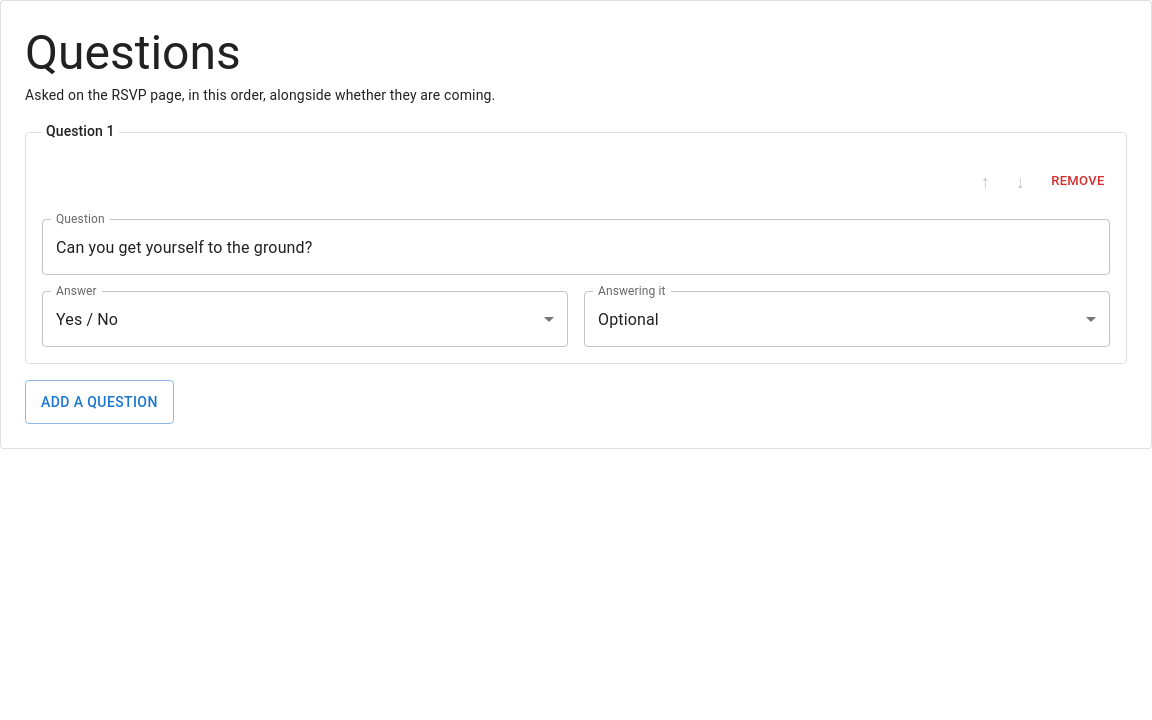
the three answer types (D66) › asks for the options as soon as the type becomes a list
Press the mouse on the dropdown named "Answer": [87, 319] box [56,310,118,328]
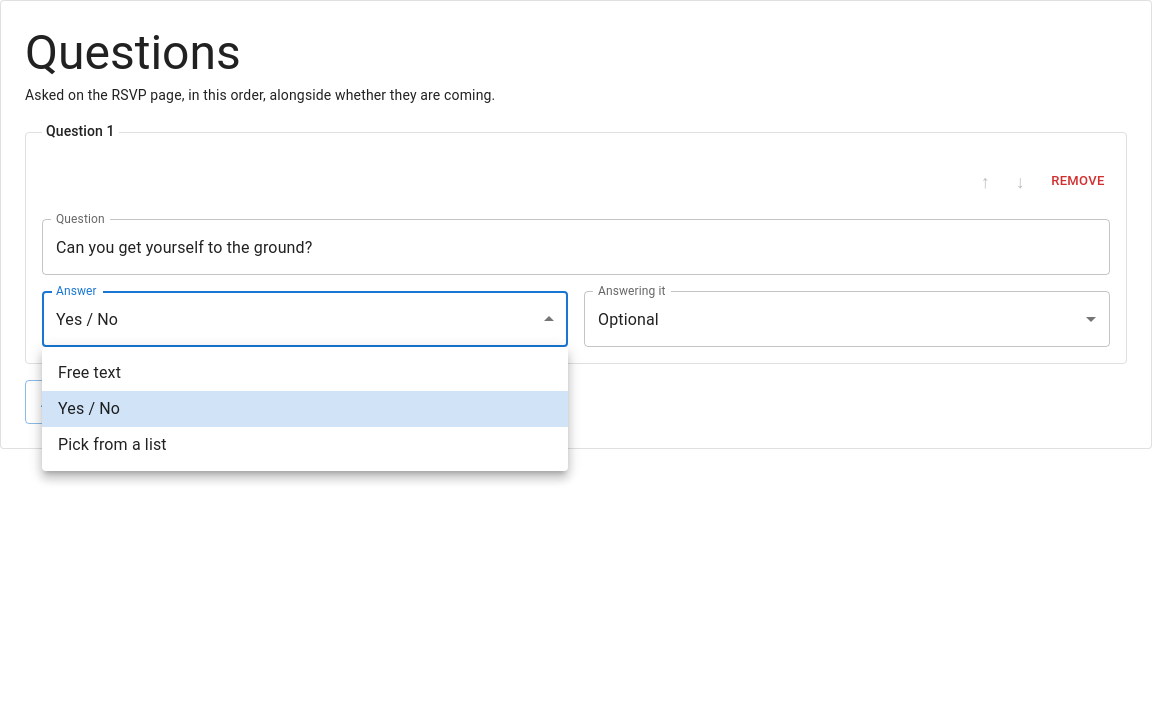
Click the option "Pick from a list": [112, 444] box [58,435,167,454]
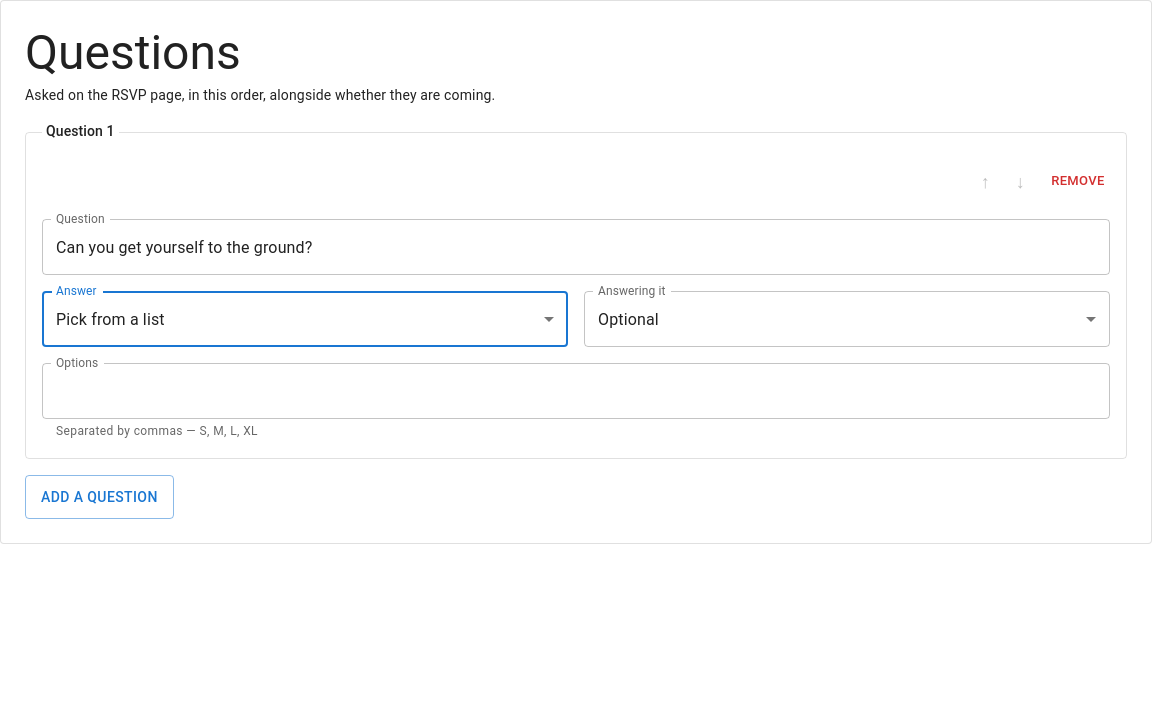
Check: the field labelled "Options" is shown, box [42,363,1110,419]
